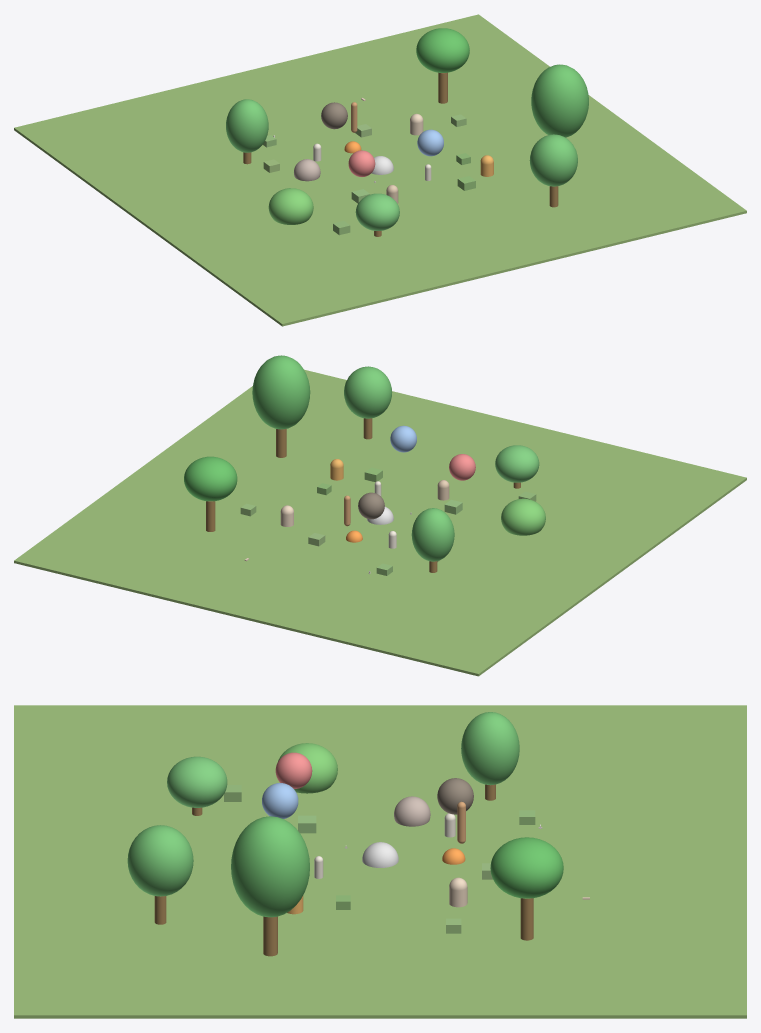
3 views of the same model, one above another, from view 1: azimuth 30°, elevation 25°; view 2: azimuth 150°, elevation 25°; view 3: azimuth 270°, elevation 25° (orthographic). The views are drawn at different scales.
Visible parts, largest first — view 1: grass_ground, tree_foliage_4, tree_foliage_6, tree_foliage_2, tree_foliage_1, tree_foliage_3, tree_foliage_5, red_bird_body_1, blue_bird_body_1, bird_body_1; view 2: grass_ground, tree_foliage_4, tree_foliage_6, tree_foliage_2, tree_foliage_1, tree_foliage_3, tree_foliage_5, blue_bird_body_1, bird_body_1, red_bird_body_1; view 3: grass_ground, tree_foliage_4, tree_foliage_6, tree_foliage_2, tree_foliage_1, tree_foliage_5, tree_foliage_3, blue_bird_body_1, red_bird_body_1, bird_body_1, bird_eye_r_1, ball (+2 smaller).
Part boxes in pixels (x1,y1,x2,y2): grass_ground: (14,14,746,326); tree_foliage_4: (531,64,588,137); tree_foliage_6: (529,134,577,186); tree_foliage_2: (416,28,469,72); tree_foliage_1: (226,99,268,152); tree_foliage_3: (268,188,313,224); tree_foliage_5: (355,193,399,230); red_bird_body_1: (348,150,375,176); blue_bird_body_1: (417,129,443,156); bird_body_1: (321,102,347,129); grass_ground: (14,369,746,676); tree_foliage_4: (252,355,310,429); tree_foliage_6: (344,366,392,418); tree_foliage_2: (184,456,237,501); tree_foliage_1: (411,508,454,561); tree_foliage_3: (501,498,545,535); tree_foliage_5: (495,445,539,482); blue_bird_body_1: (390,425,416,452); bird_body_1: (358,492,384,519); red_bird_body_1: (449,454,475,480); grass_ground: (14,705,746,1018); tree_foliage_4: (231,816,309,917); tree_foliage_6: (127,825,193,896); tree_foliage_2: (490,837,563,898); tree_foliage_1: (461,712,519,785); tree_foliage_5: (167,756,227,807); tree_foliage_3: (278,743,337,793); blue_bird_body_1: (262,783,298,818); red_bird_body_1: (275,752,312,788); bird_body_1: (437,778,473,814); bird_eye_r_1: (394,796,430,826); ball: (362,842,398,867).
Size of the model in its own units: 20 by 4.79 by 20.
